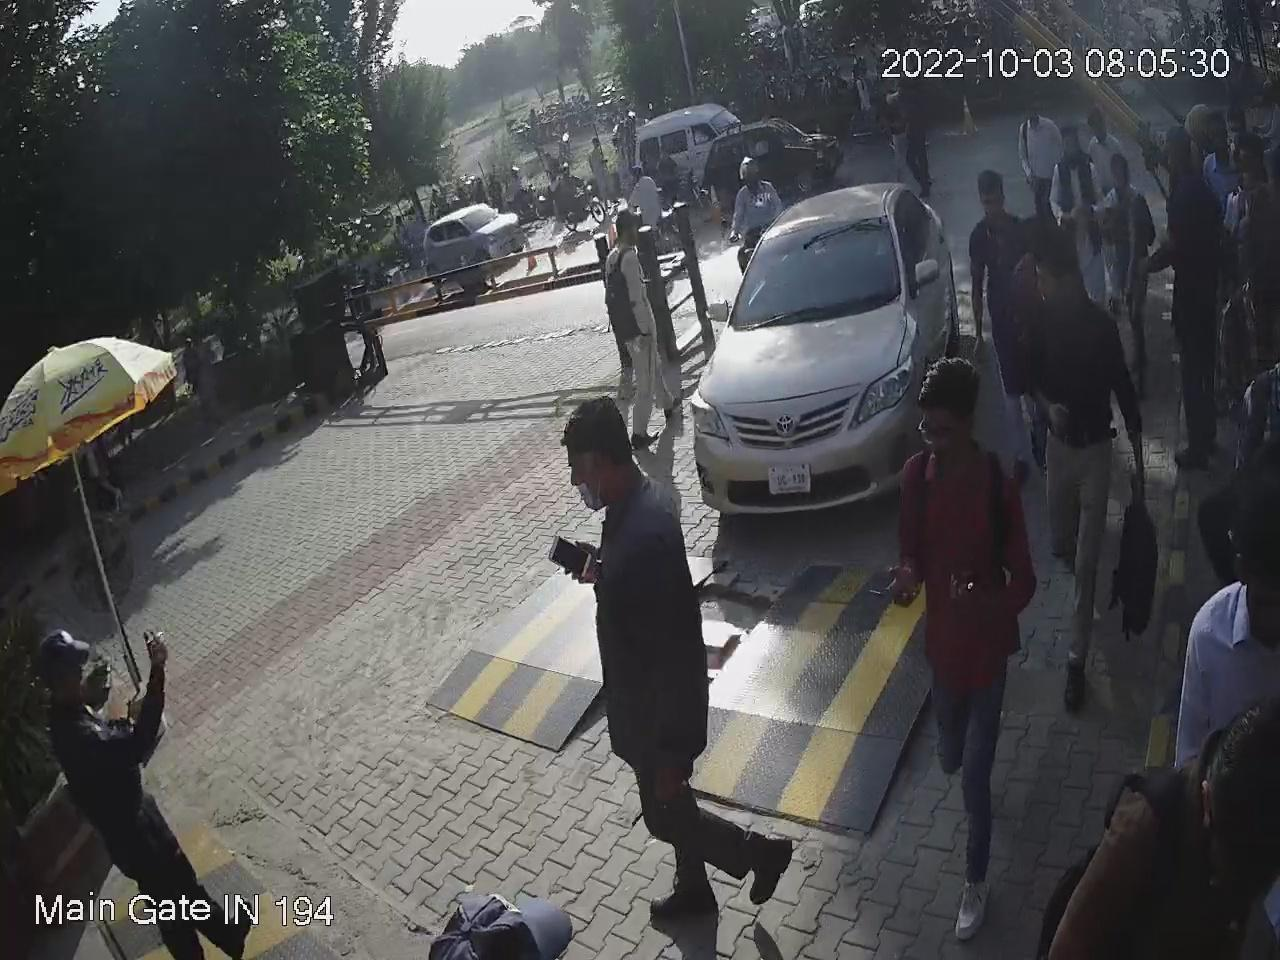windshield: (726, 215, 900, 328)
